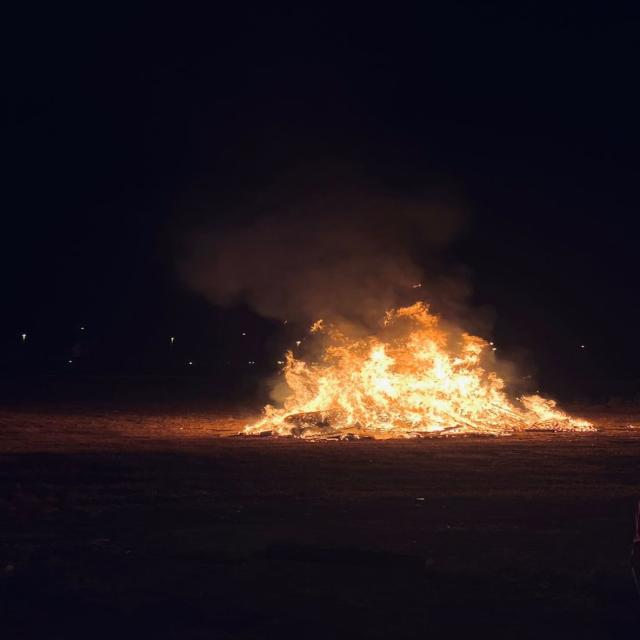fire: (231, 301, 593, 439)
